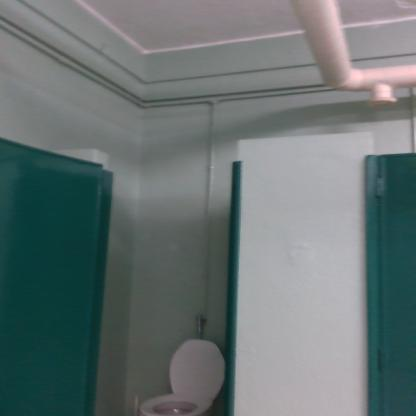closed: (339, 130, 416, 416)
open: (0, 135, 255, 416)
